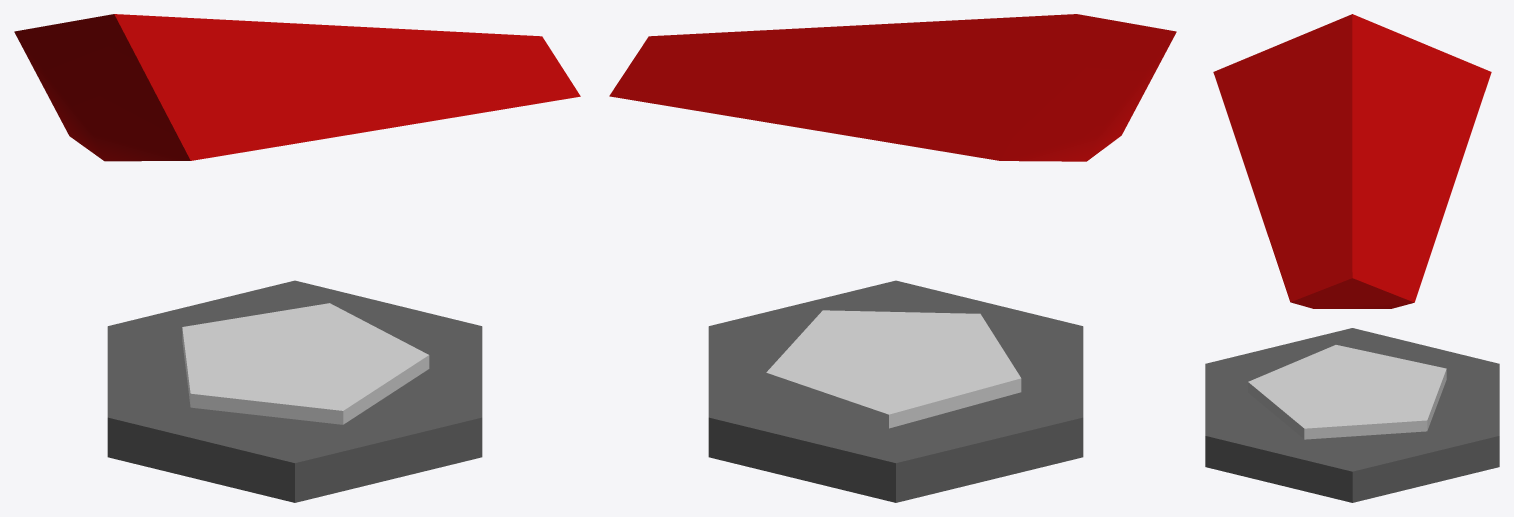
File: gun_turret_2.fbx
3 renders of one model, left to right at view 1: azimuth 30°, elevation 25°; view 2: azimuth 150°, elevation 25°; view 3: azimuth 270°, elevation 25°, orthographic. The views are drawn at different scales.
Visible parts, largest first — view 1: pCylinder2, Big, Small; view 2: pCylinder2, Big, Small; view 3: pCylinder2, Big, Small.
Boxes of the visible parts, x1,y1,x2,y2 form: pCylinder2: [14, 14, 580, 161]; Big: [107, 280, 482, 502]; Small: [182, 303, 429, 424]; pCylinder2: [609, 14, 1176, 161]; Big: [708, 280, 1083, 502]; Small: [766, 310, 1021, 428]; pCylinder2: [1213, 14, 1491, 308]; Big: [1205, 328, 1499, 502]; Small: [1248, 345, 1446, 439].
Size of the model in its own units: 9.2 by 8.52 by 6.55.
